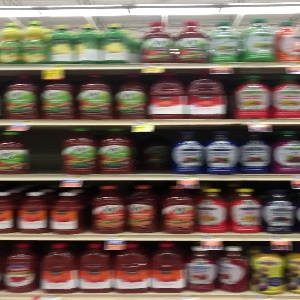void: (128, 126, 175, 175), (22, 123, 62, 178)
